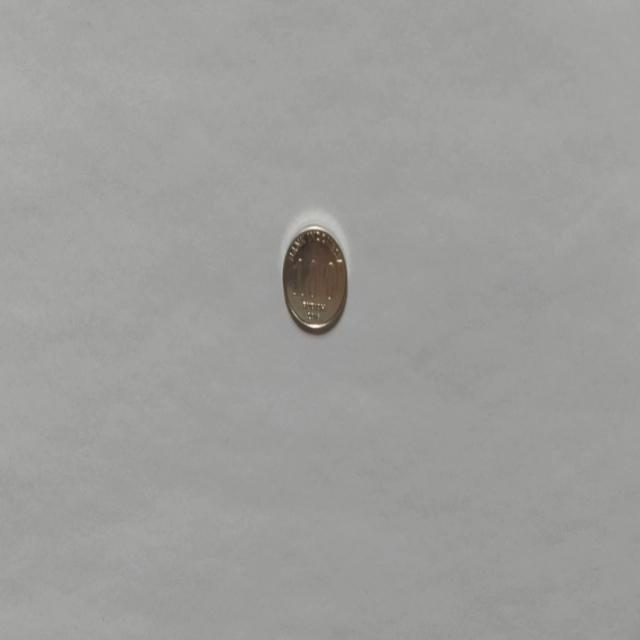seratus rupiah: (282, 222, 348, 334)
